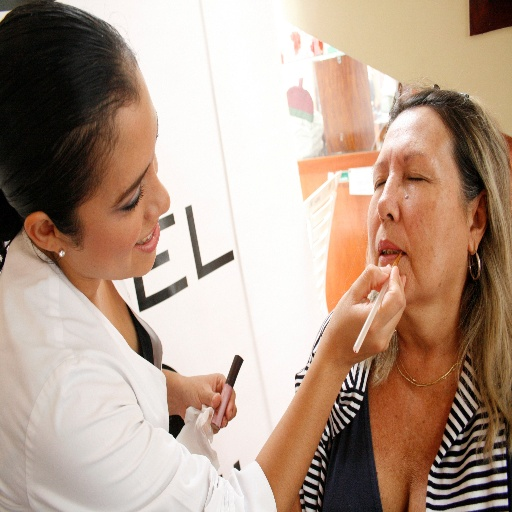hand: (318, 261, 406, 369), (158, 363, 242, 437)
